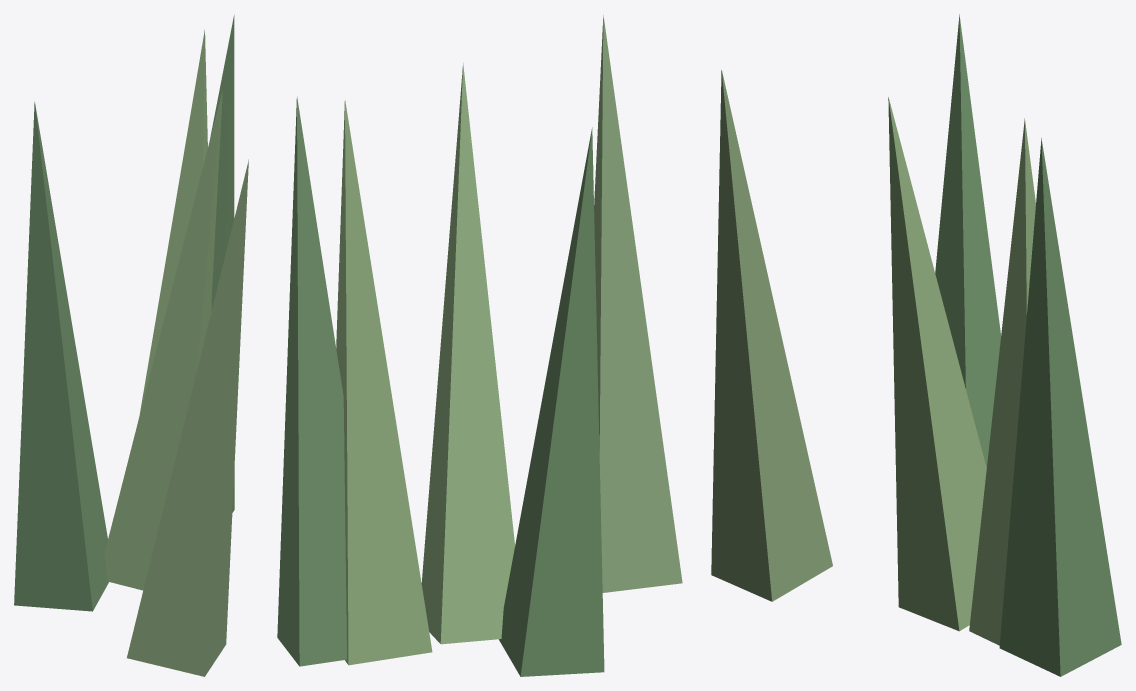
File: grass_tuft.glb
The picture shows the model from 3 angles, left to right: view 1: azimuth 30°, elevation 25°; view 2: azimuth 150°, elevation 25°; view 3: azimuth 270°, elevation 25°; orthographic projection. The views are drawn at different scales.
Parts seen in each view (by area): view 1: GrassTuft; view 2: GrassTuft; view 3: GrassTuft.
Boxes of the visible parts, box(x1,y1,x2,y2) form: GrassTuft: box(14, 15, 248, 676); GrassTuft: box(277, 15, 682, 676); GrassTuft: box(711, 14, 1121, 676).
Bounding box in the file's own units: 0.1319 × 0.2414 × 0.1678.
